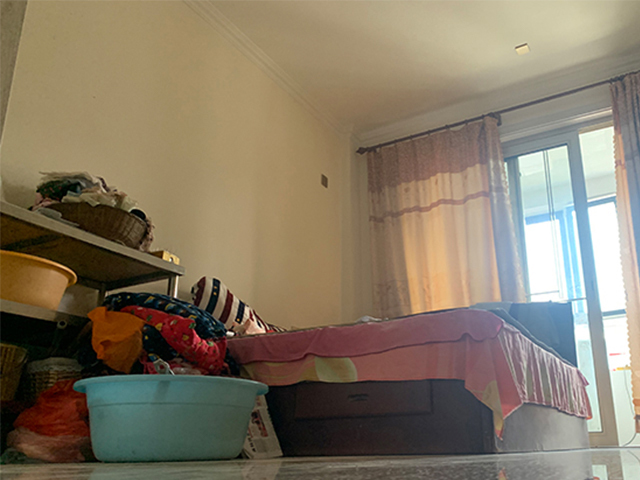bed: (227, 300, 593, 456)
curtain: (364, 113, 503, 302), (609, 72, 640, 435)
